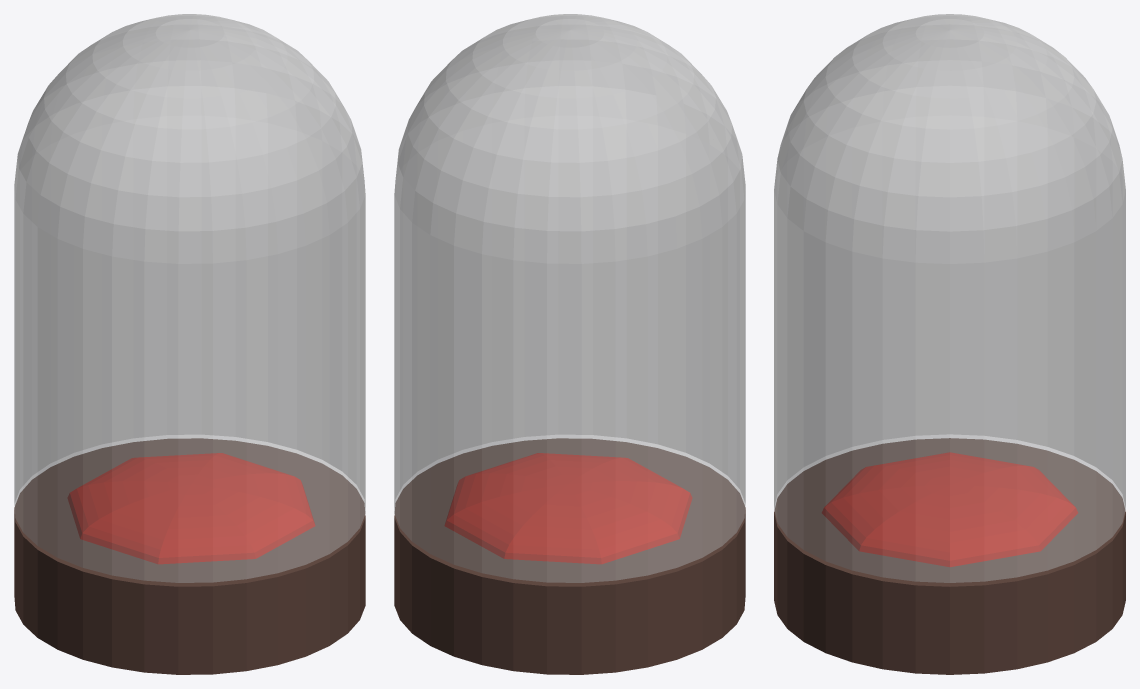
The model's file is herobullet.fbx.
3 renders of one model, left to right at view 1: azimuth 30°, elevation 25°; view 2: azimuth 150°, elevation 25°; view 3: azimuth 270°, elevation 25°, orthographic.
Parts seen in each view (by area): view 1: HeroBullet; view 2: HeroBullet; view 3: HeroBullet.
Part boxes in pixels (x1,y1,x2,y2): HeroBullet: (14,14,365,674); HeroBullet: (394,14,745,674); HeroBullet: (774,14,1125,674).
Size of the model in its own units: 200 by 358 by 200.
